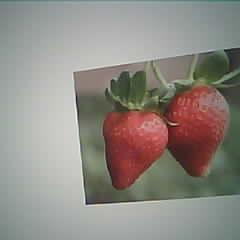straw-ripe: (166, 82, 230, 177), (103, 104, 169, 190)
